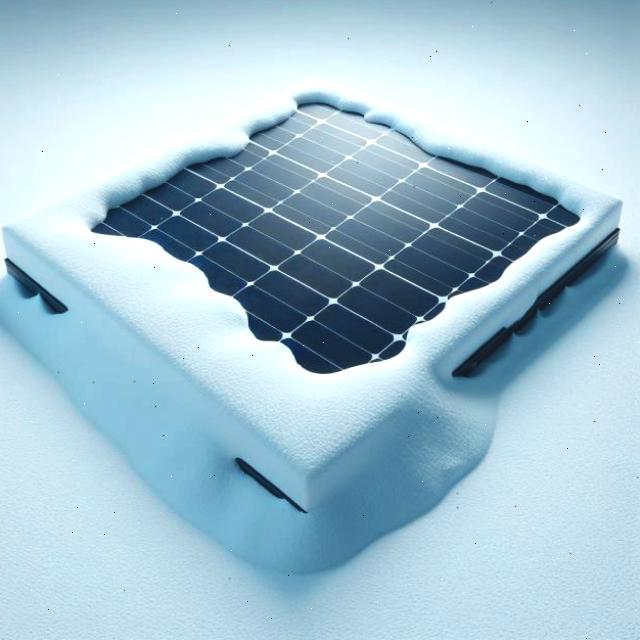Anomaly Solar Panel: (2, 0, 624, 517)
Snow: (4, 0, 624, 517), (90, 0, 582, 451)
